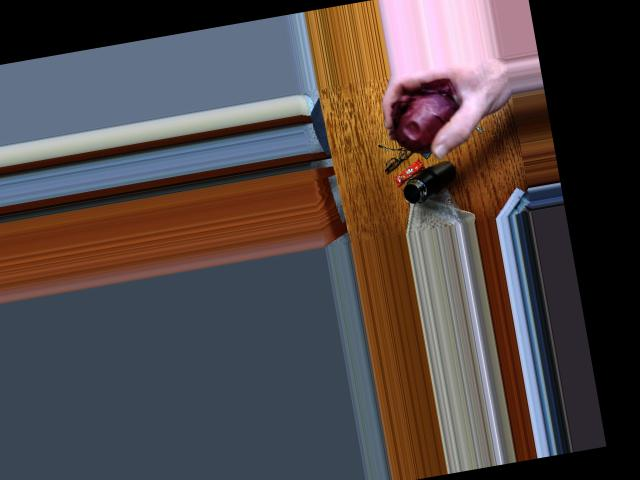onion: (388, 84, 465, 157)
